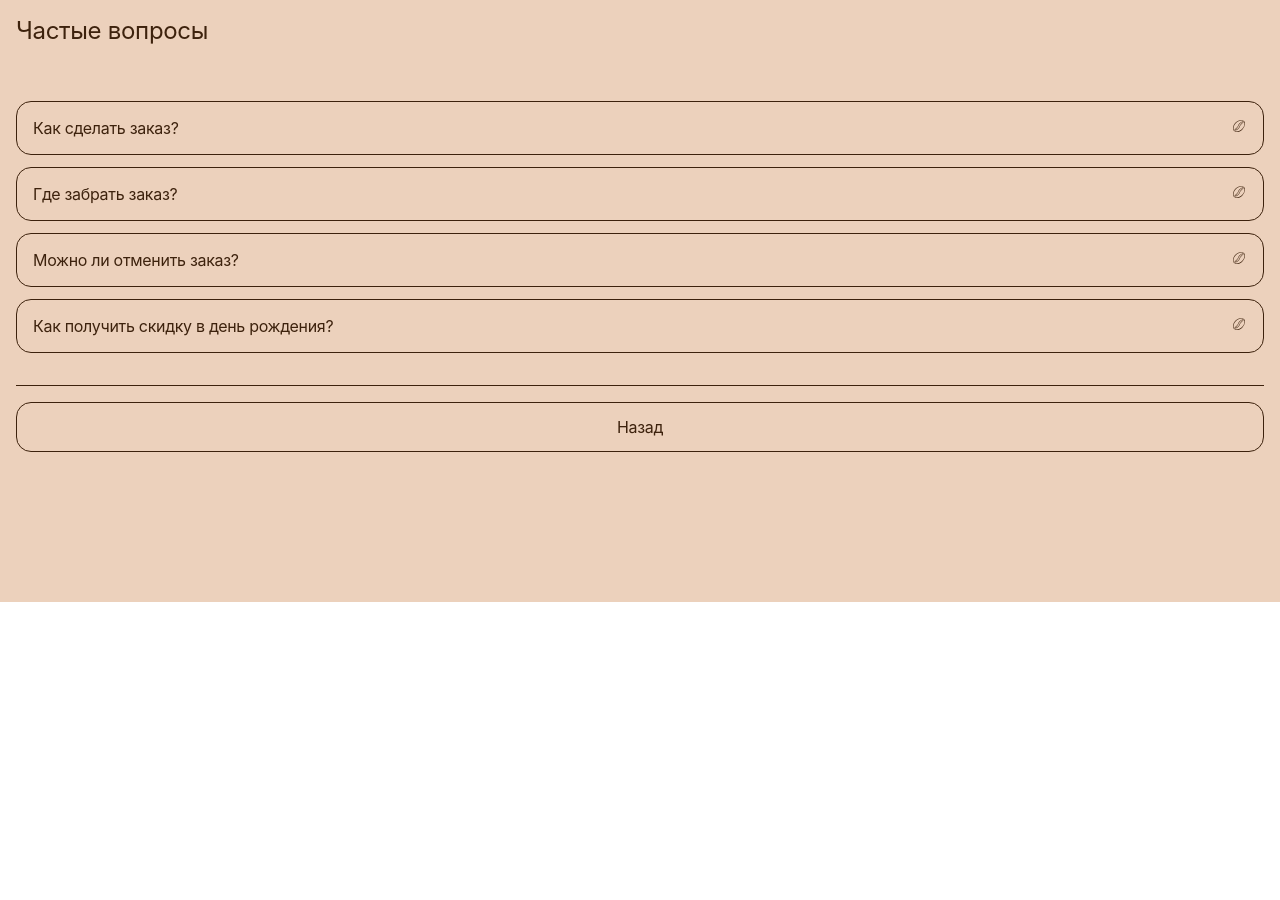
SupportFAQ component › Клик на вопрос открывает ответ
Click the text "Как сделать заказ?": (106,128) [33,118,178,138]
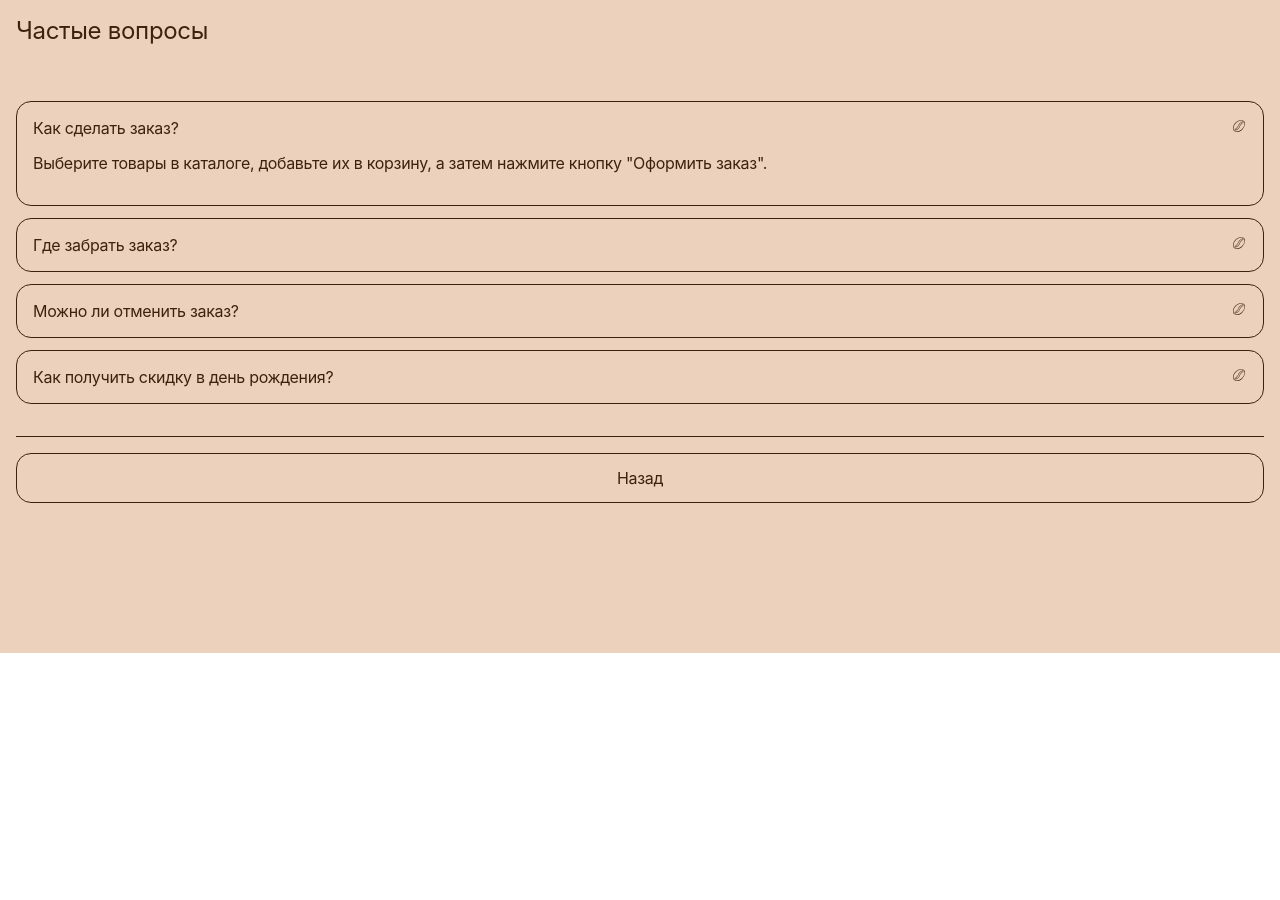
Expected: the text "Выберите товары в каталоге" is shown, [33,153,767,173]
